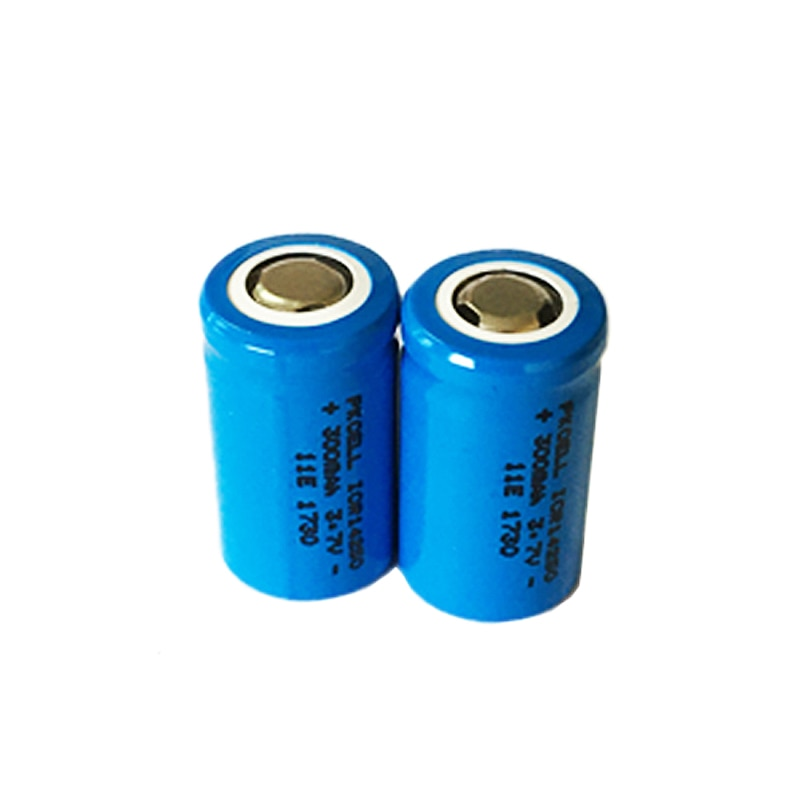Battery: (394, 245, 610, 628), (195, 233, 399, 606)
